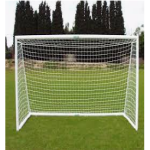goals: (14, 34, 140, 132)
